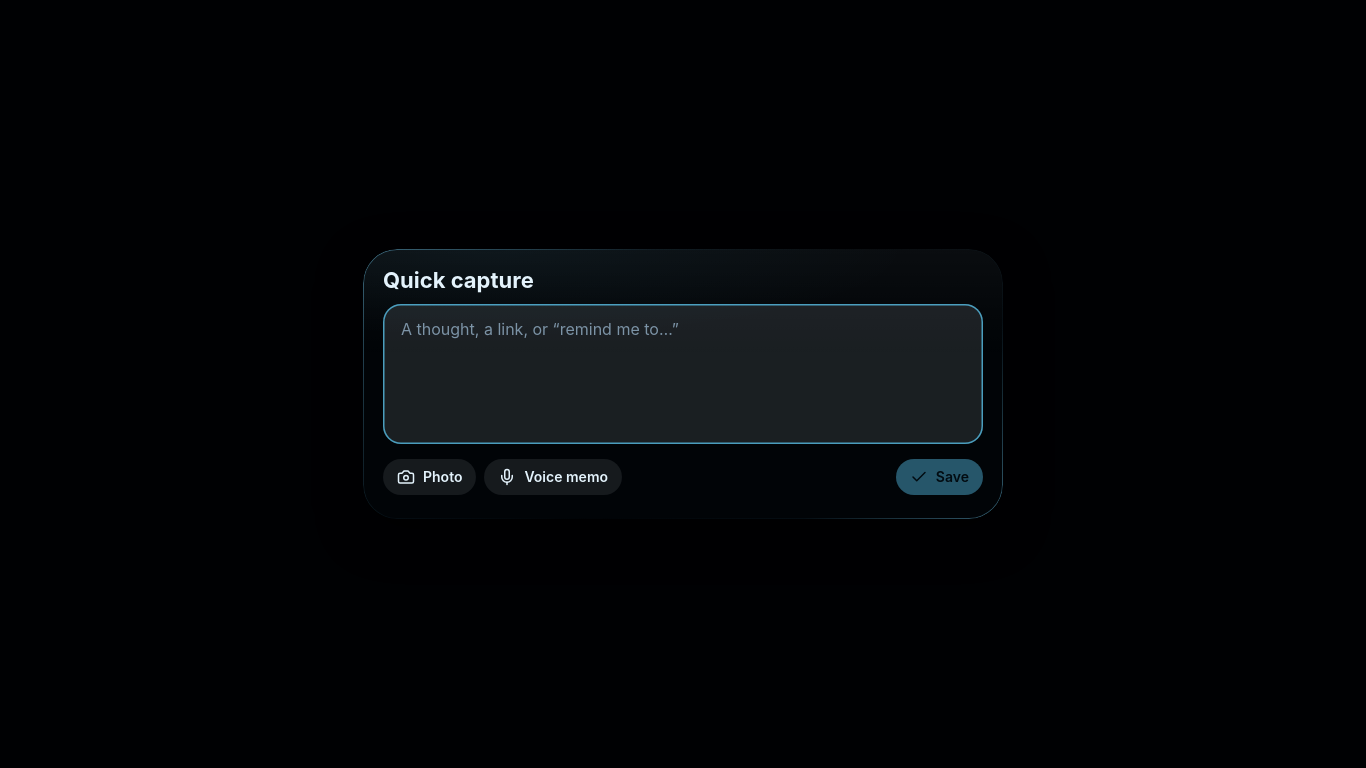
it: <QuickCapture /> › turns “remind me to…” into a task instead of a note
This screenshot has width=1366, height=768.
Type "remind me to pay rego on Friday" into the text box named "Capture text" at {"x": 683, "y": 374}, box [383,304,983,444]
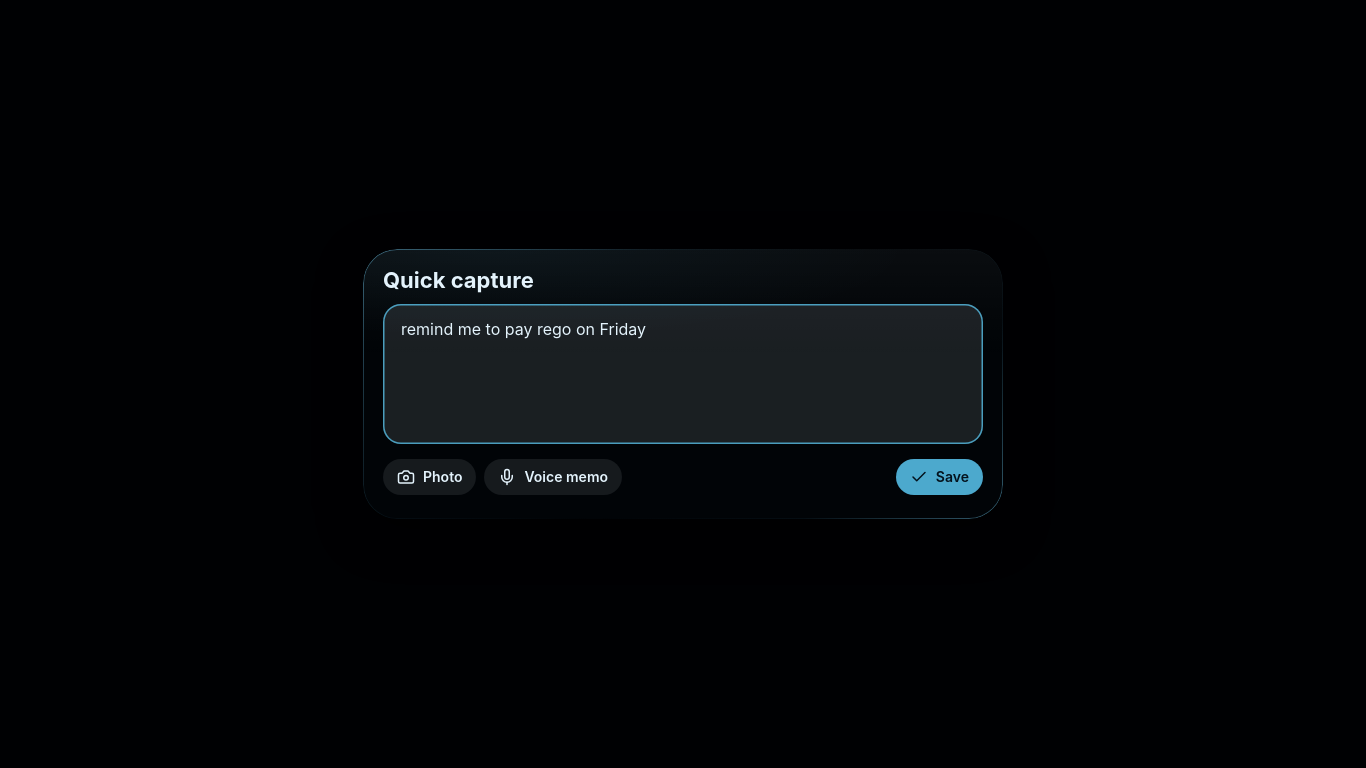
Click the button "Save" at {"x": 939, "y": 477}, box [896,459,983,495]
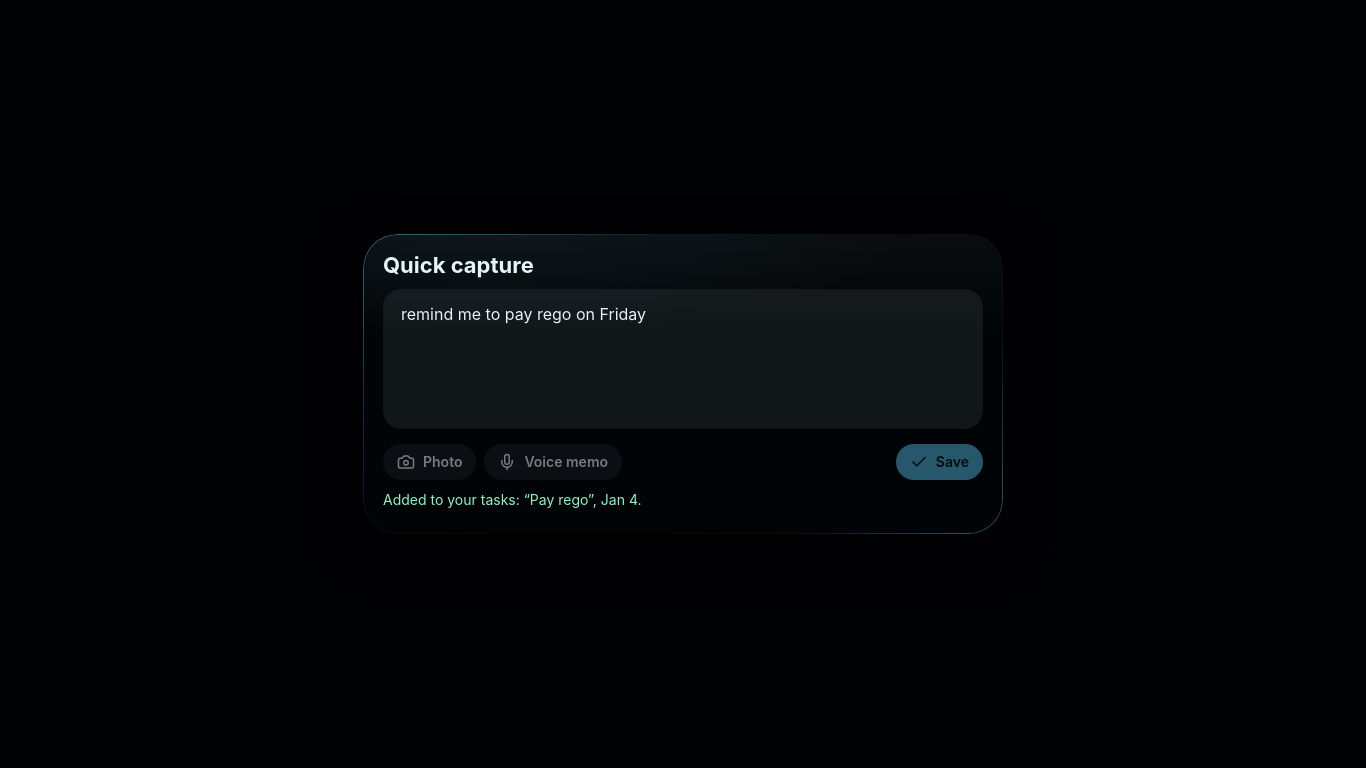
Expected: the text "Added to your tasks: “Pay rego”, Jan 4." is shown, [383,491,642,508]
